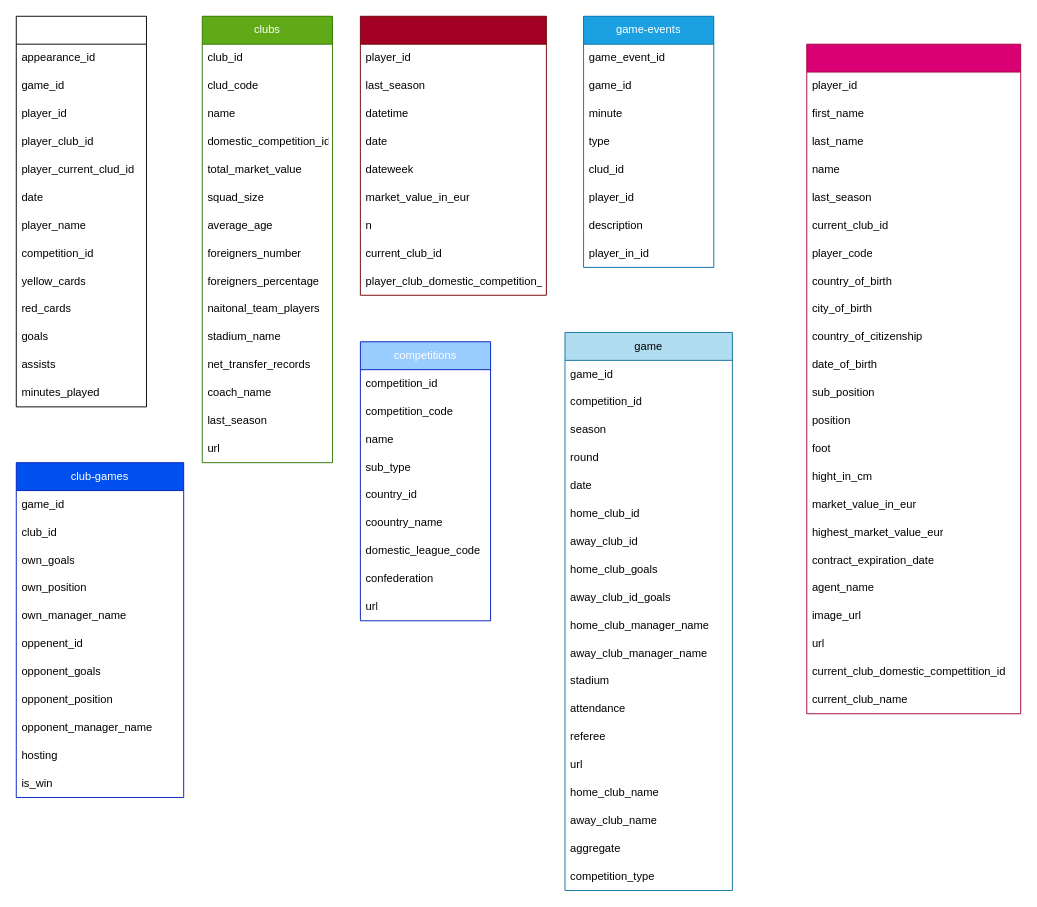
Image size: 1037x907. Some labels were removed from this diagram. The box of each missing label's shape, as (x1, y1, x2, y2) in pixels:
appearances: (15, 15, 146, 407)
player-valuations: (359, 15, 546, 295)
players: (806, 43, 1021, 714)
